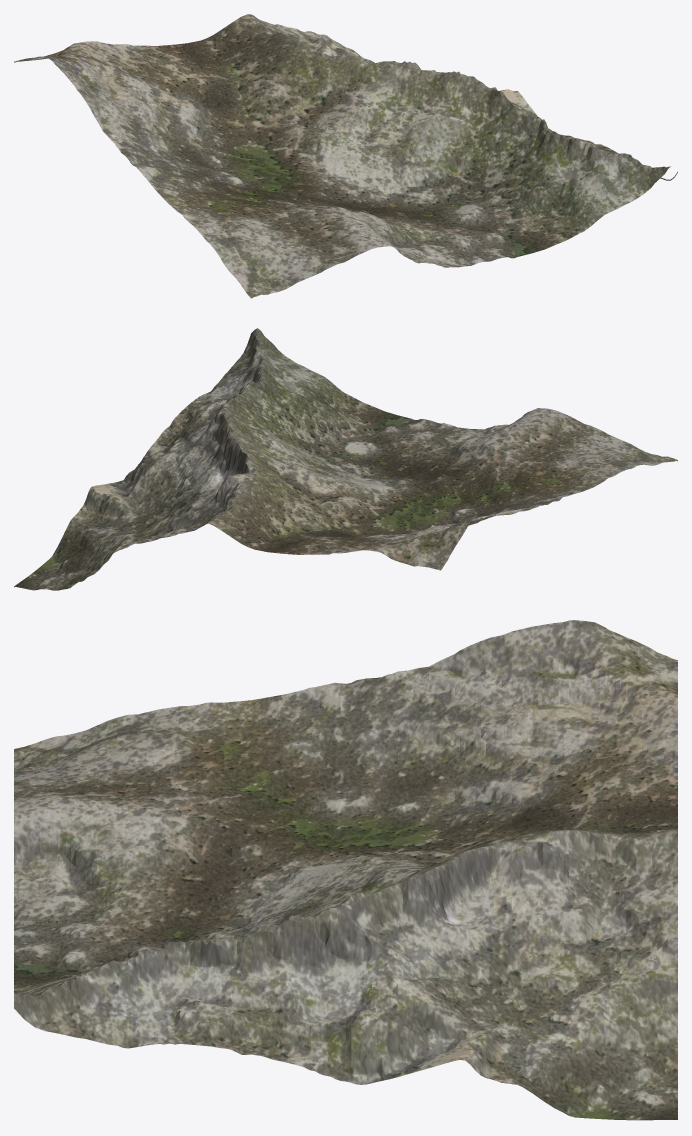
The picture shows the model from 3 angles, top to bottom: view 1: azimuth 30°, elevation 25°; view 2: azimuth 150°, elevation 25°; view 3: azimuth 270°, elevation 25°; orthographic projection. The views are drawn at different scales.
Bounding box in the file's own units: 1000 × 336 × 963.
Materials: 1 (1 with a texture image).
